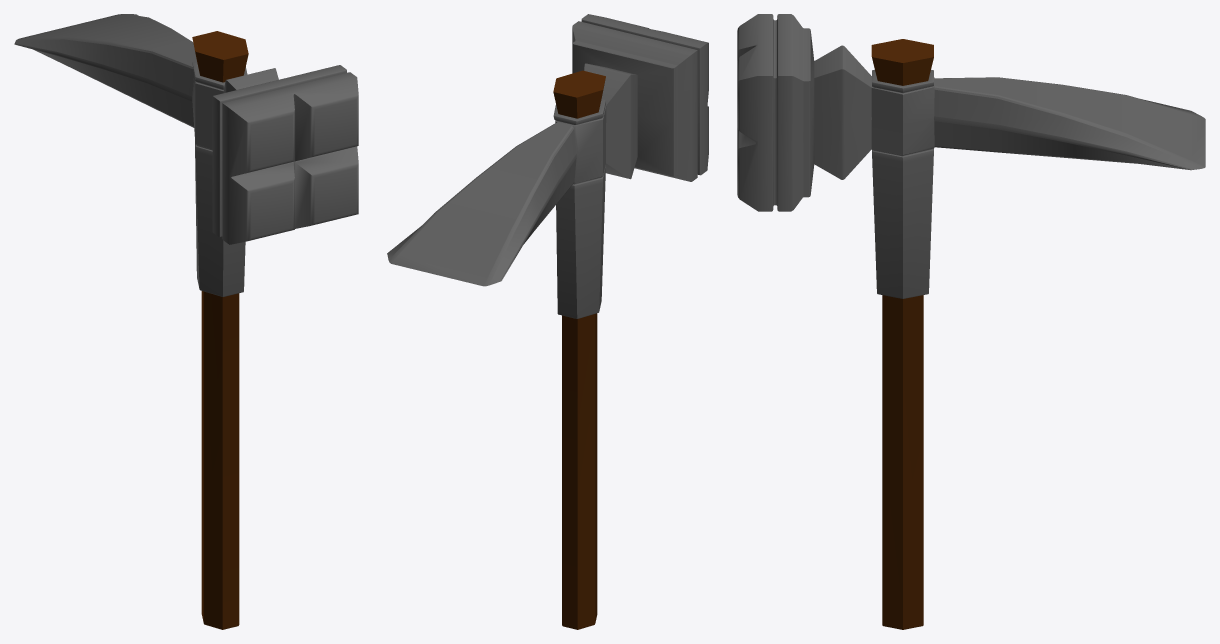
The model's file is pickaxe.fbx.
3 views of the same model, side by side, from view 1: azimuth 30°, elevation 25°; view 2: azimuth 150°, elevation 25°; view 3: azimuth 270°, elevation 25° (orthographic). The views are drawn at different scales.
Parts seen in each view (by area): view 1: Cylinder.001; view 2: Cylinder.001; view 3: Cylinder.001.
Boxes of the visible parts, x1=… form: Cylinder.001: x1=14, y1=14, x2=358, y2=629; Cylinder.001: x1=387, y1=14, x2=708, y2=629; Cylinder.001: x1=737, y1=14, x2=1205, y2=629.
Bounding box in the file's own units: 34.19 × 149 × 109.
